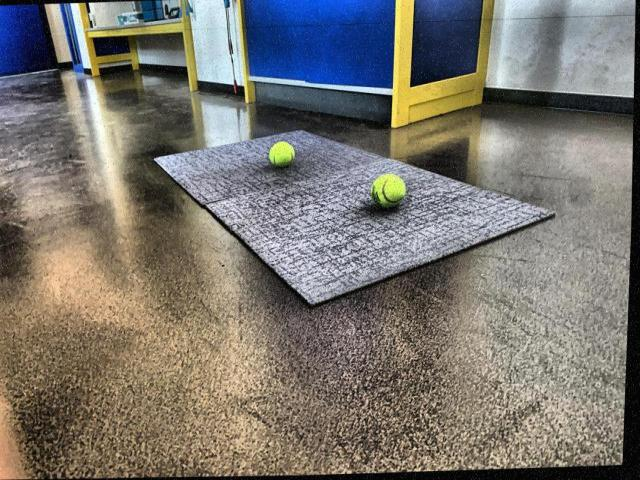tennis-ball: (369, 174, 406, 209), (269, 141, 296, 169)
